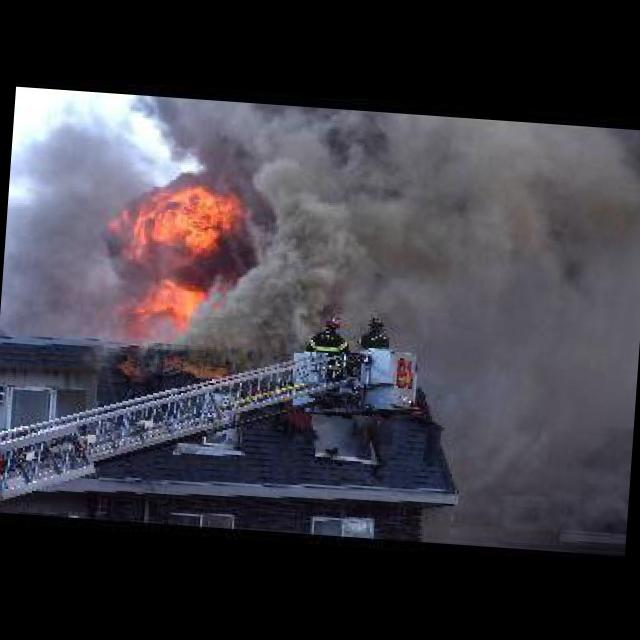Fire: (109, 168, 246, 338)
Smoke: (216, 102, 640, 434), (0, 115, 150, 353)
